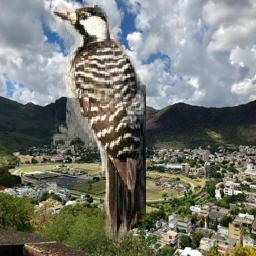Woodpecker: (52, 5, 147, 243)
